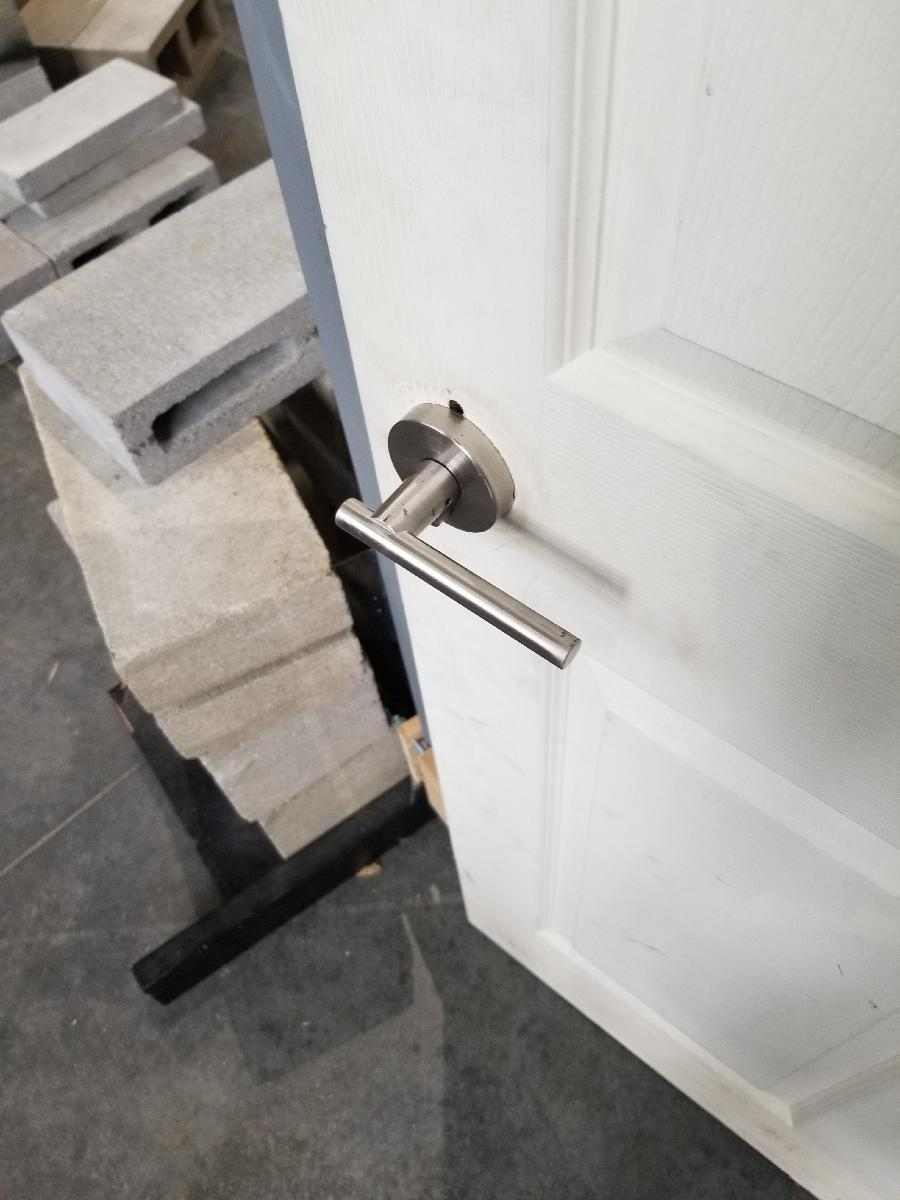handle: (338, 388, 586, 673)
